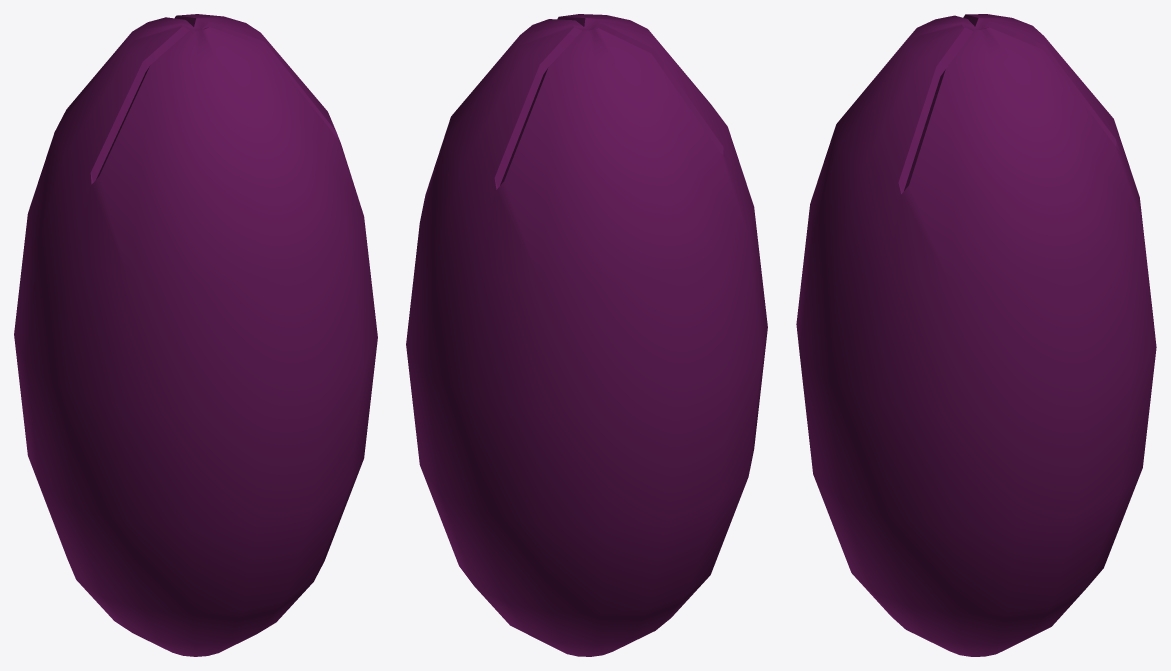
File: olive.fbx
3 views of the same model, side by side, from view 1: azimuth 30°, elevation 25°; view 2: azimuth 150°, elevation 25°; view 3: azimuth 270°, elevation 25° (orthographic).
Parts seen in each view (by area): view 1: Olive; view 2: Olive; view 3: Olive.
Boxes of the visible parts, left/top/right/bottom form: Olive: left=14, top=14, right=377, bottom=656; Olive: left=406, top=14, right=767, bottom=656; Olive: left=796, top=14, right=1156, bottom=656.
Size of the model in its own units: 4.77 by 9.19 by 4.77.
